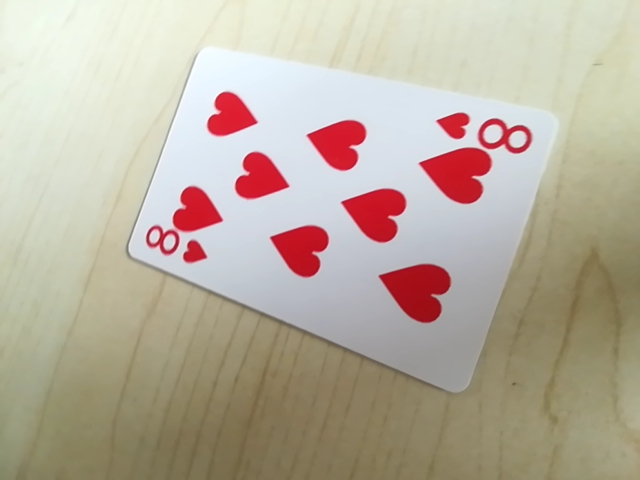hx 8: (430, 107, 538, 151), (140, 225, 212, 268)
